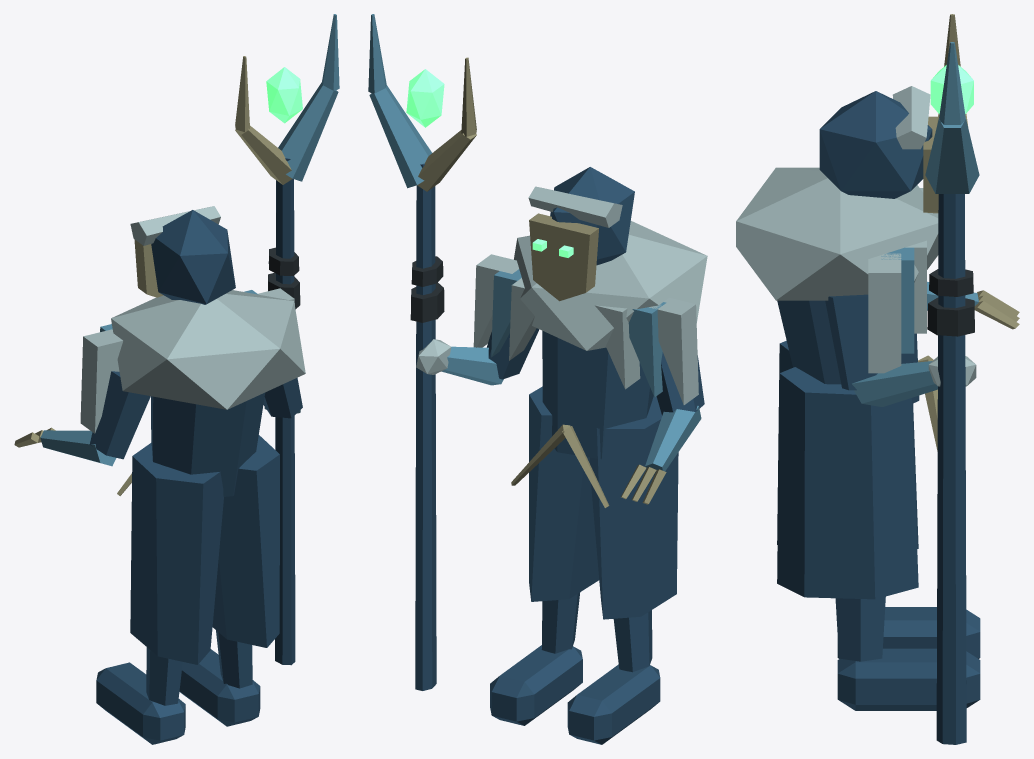
Rendered from hoarfrost_shaman.glb.
The picture shows the model from 3 angles, left to right: view 1: azimuth 30°, elevation 25°; view 2: azimuth 150°, elevation 25°; view 3: azimuth 270°, elevation 25°; orthographic projection. The views are drawn at different scales.
Parts seen in each view (by area): view 1: hoarfrost_shaman; view 2: hoarfrost_shaman; view 3: hoarfrost_shaman.
Part boxes in pixels (x1,y1,x2,y2): hoarfrost_shaman: (14,14,339,744); hoarfrost_shaman: (368,14,707,744); hoarfrost_shaman: (736,14,1019,744).
Size of the model in its own units: 1.1 by 2.3 by 0.8.
